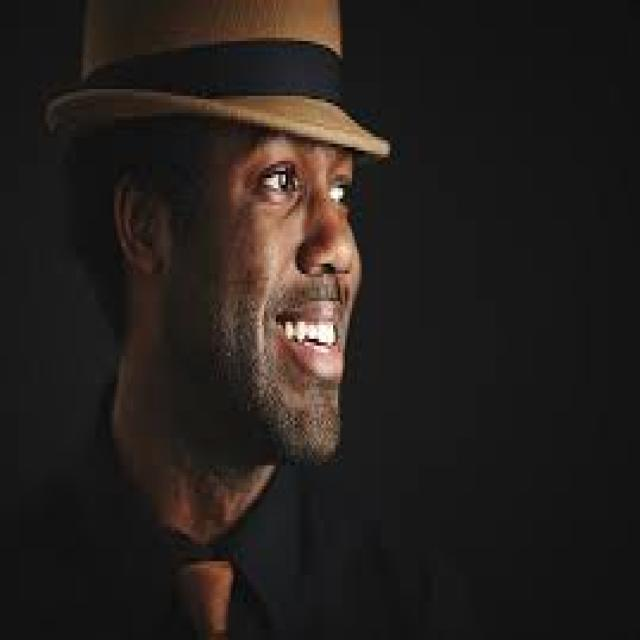hat: (47, 0, 395, 465)
